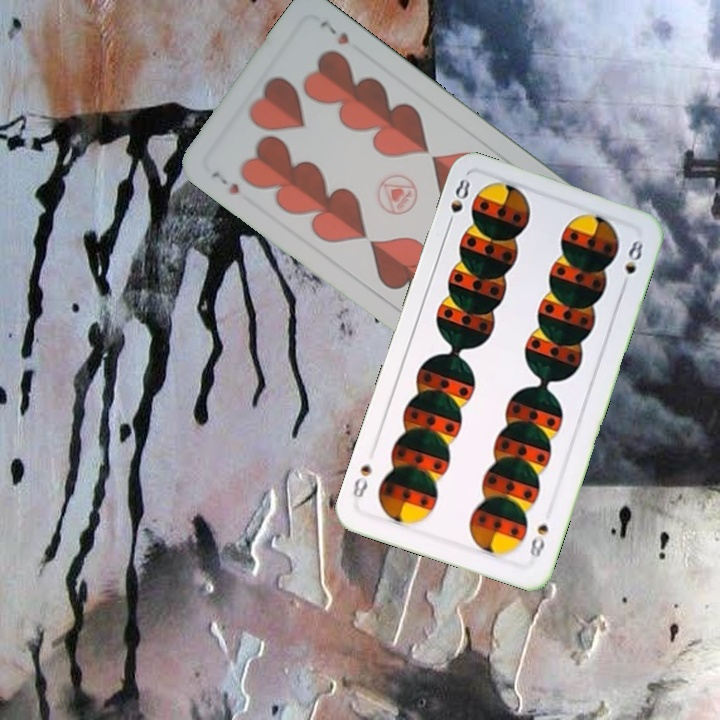H7: (207, 166, 242, 197)
S8: (442, 175, 473, 232), (525, 520, 551, 566)
